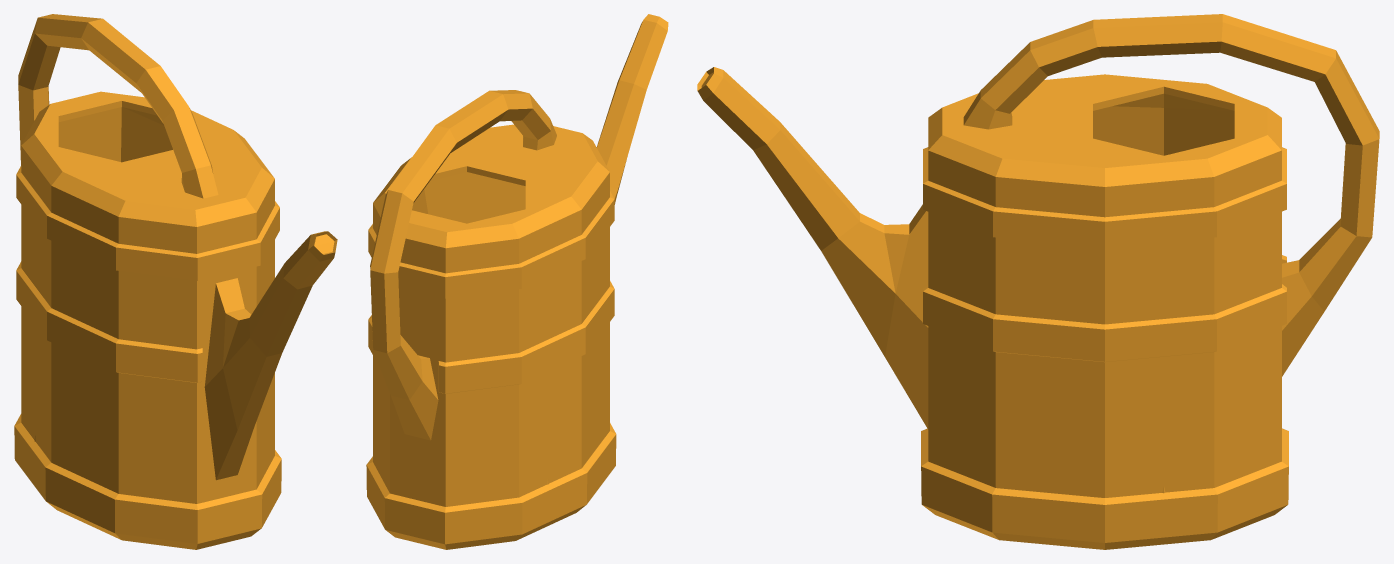
The model's file is SM_Can_Watering_Plastic_A.fbx.
3 views of the same model, side by side, from view 1: azimuth 30°, elevation 25°; view 2: azimuth 150°, elevation 25°; view 3: azimuth 270°, elevation 25° (orthographic). The views are drawn at different scales.
Parts seen in each view (by area): view 1: can-watering-plastic-a; view 2: can-watering-plastic-a; view 3: can-watering-plastic-a.
Part boxes in pixels (left/top/right/bottom): can-watering-plastic-a: left=14, top=14, right=337, bottom=549; can-watering-plastic-a: left=366, top=14, right=668, bottom=549; can-watering-plastic-a: left=697, top=14, right=1379, bottom=549.
Size of the model in its own units: 0.2505 by 0.5005 by 0.6418.
